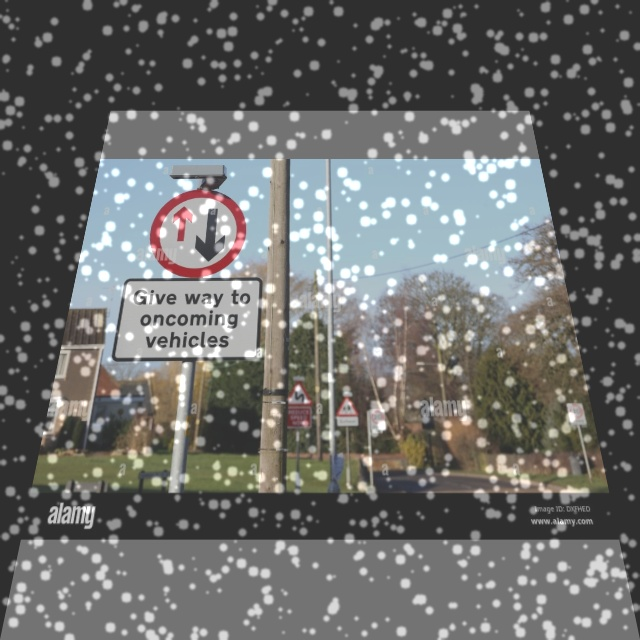Priority_for_Oncoming_Traffic: (143, 190, 248, 277)
